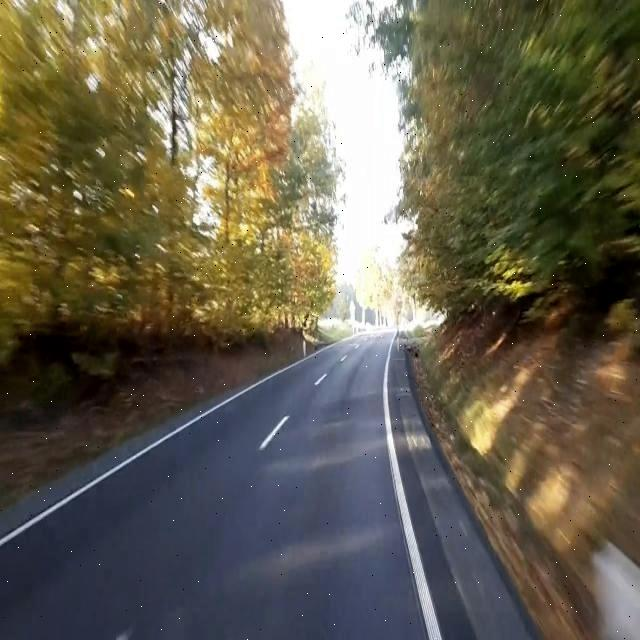lane: (1, 357, 305, 546), (383, 334, 441, 639), (260, 416, 288, 449)
road: (0, 333, 424, 639), (388, 345, 537, 639)
